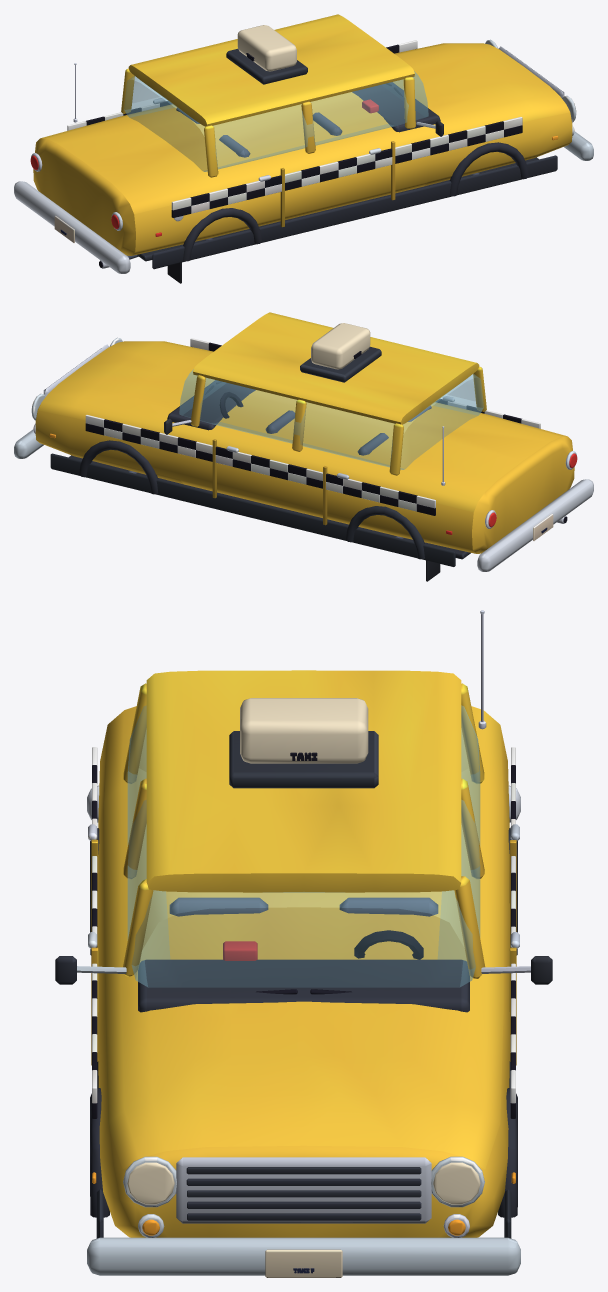
Rendered from SM_Veh_CheckerTaxi_Body.fbx.
3 renders of one model, top to bottom at view 1: azimuth 30°, elevation 25°; view 2: azimuth 150°, elevation 25°; view 3: azimuth 270°, elevation 25°, orthographic. The views are drawn at different scales.
Parts seen in each view (by area): view 1: SM_Veh_CheckerTaxi_Body; view 2: SM_Veh_CheckerTaxi_Body; view 3: SM_Veh_CheckerTaxi_Body.
Part boxes in pixels (x1,y1,x2,y2): SM_Veh_CheckerTaxi_Body: (14,14,593,283); SM_Veh_CheckerTaxi_Body: (14,312,593,581); SM_Veh_CheckerTaxi_Body: (55,610,552,1277).
Bounding box in the file's own units: 524 × 182 × 234.
